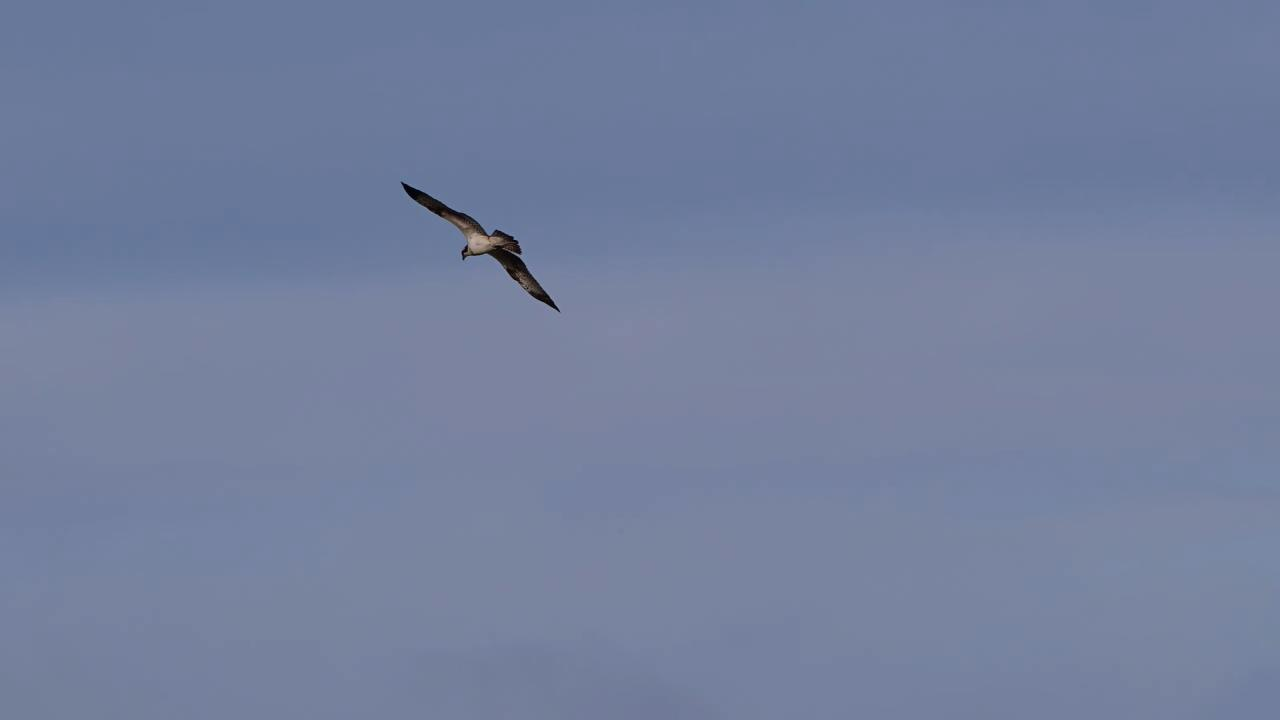Bird: (392, 171, 567, 323)
